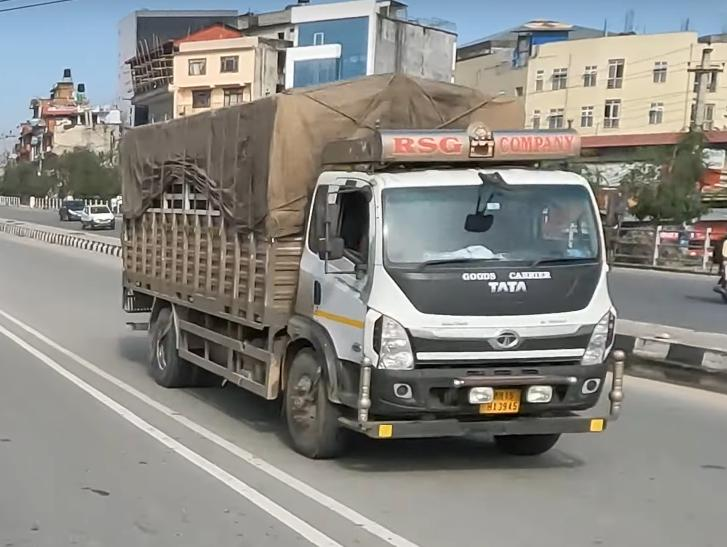truck: (118, 71, 626, 459)
